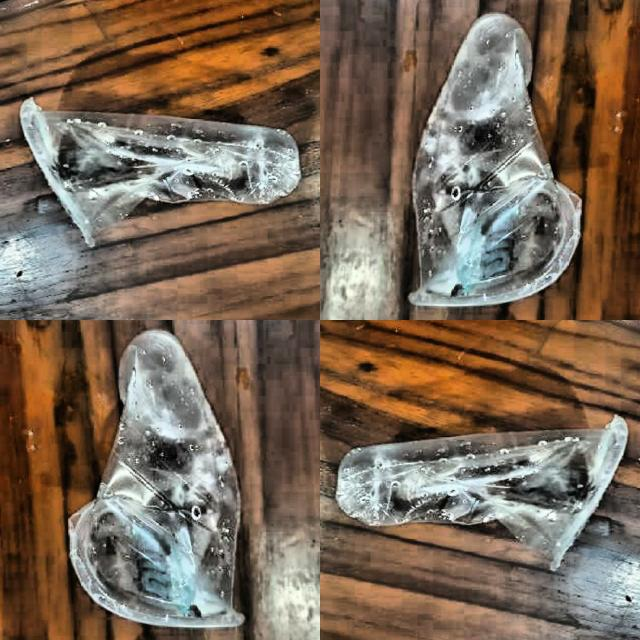Single-Use-Plastic: (69, 330, 244, 628), (409, 14, 580, 307), (336, 415, 628, 571), (20, 98, 301, 248)
